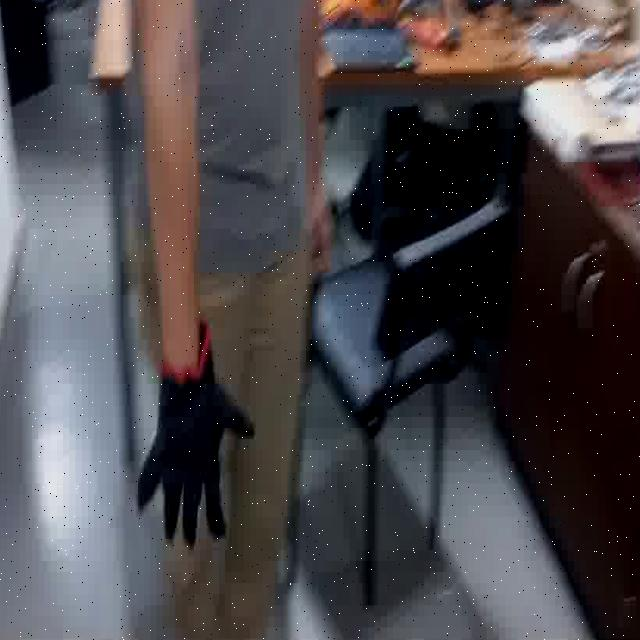Gloves: (118, 325, 264, 535)
